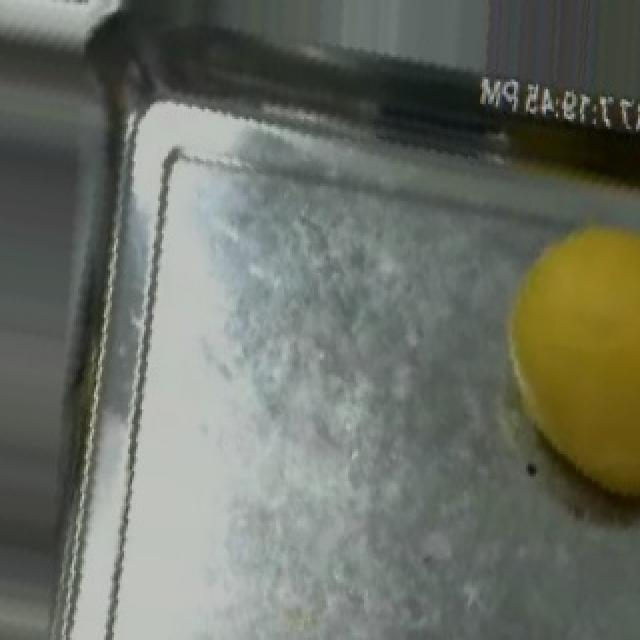fruit: (464, 186, 640, 528)
